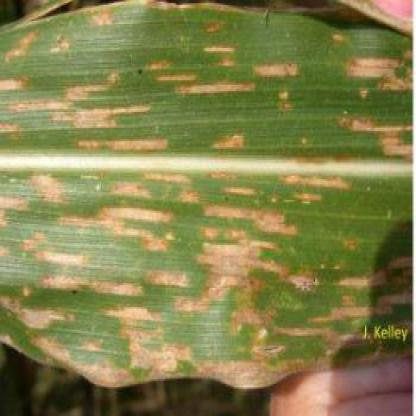Corn Gray leaf spot: (10, 6, 405, 389)
